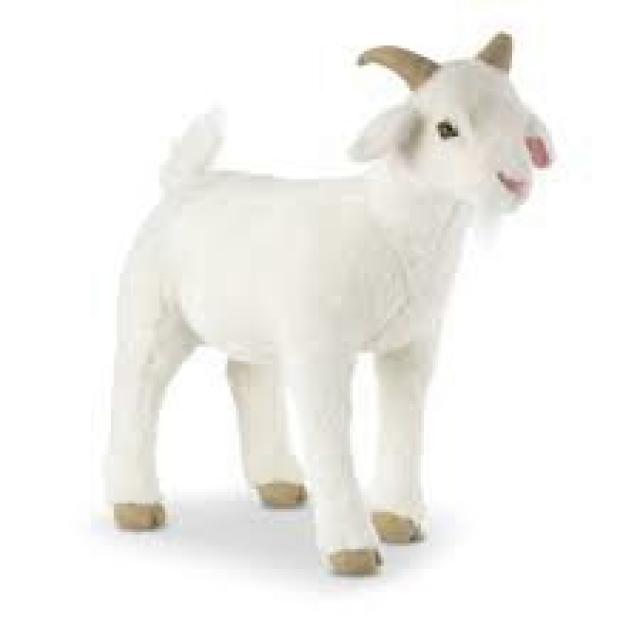goat: (108, 31, 549, 572)
